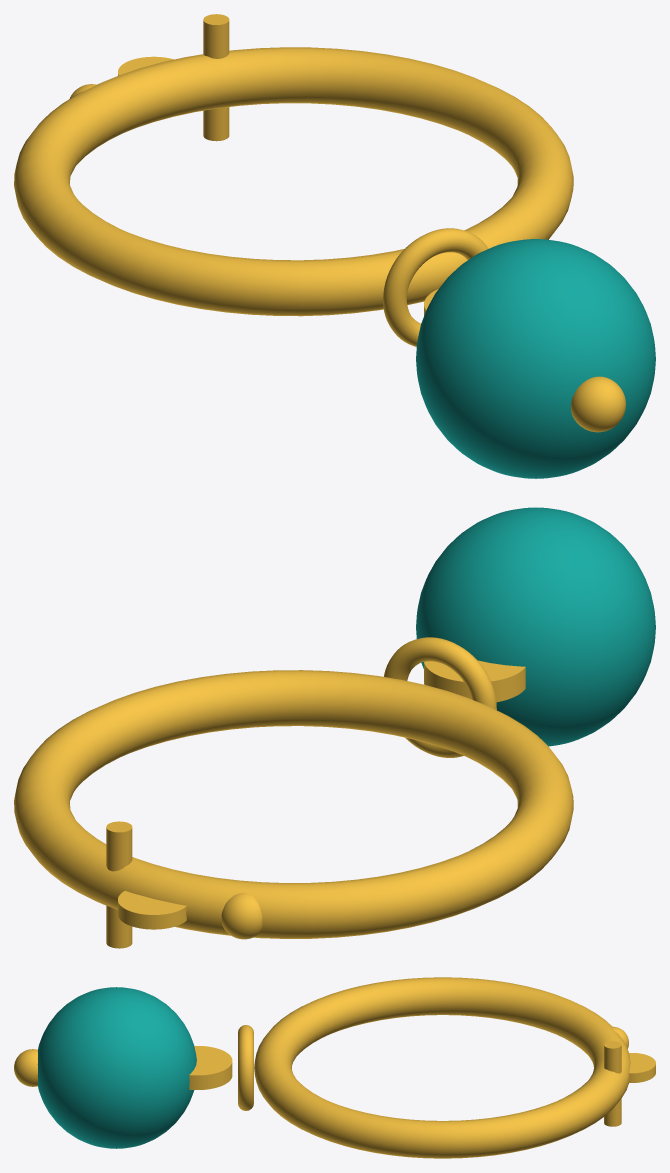
3 views of the same model, one above another, from view 1: azimuth 30°, elevation 25°; view 2: azimuth 150°, elevation 25°; view 3: azimuth 270°, elevation 25° (orthographic). The views are drawn at different scales.
Visible parts, largest first — view 1: hoop_main_body, turquoise_bead, bail_ring, pendant_pin_end, earring_post_wire; view 2: hoop_main_body, turquoise_bead, bail_ring, pendant_cap_top, earring_post_wire, opening_gap_cutout_visualizer, post_closure_notch; view 3: hoop_main_body, turquoise_bead, pendant_cap_top, bail_ring, earring_post_wire, pendant_pin_end, opening_gap_cutout_visualizer.
Boxes of the visible parts, bbox=[...] form: hoop_main_body: bbox=[14, 47, 573, 316]; turquoise_bead: bbox=[416, 239, 655, 478]; bail_ring: bbox=[383, 228, 488, 346]; pendant_pin_end: bbox=[571, 376, 625, 432]; earring_post_wire: bbox=[203, 14, 229, 141]; hoop_main_body: bbox=[14, 670, 573, 938]; turquoise_bead: bbox=[416, 507, 655, 746]; bail_ring: bbox=[384, 637, 496, 757]; pendant_cap_top: bbox=[424, 660, 525, 702]; earring_post_wire: bbox=[106, 821, 132, 948]; opening_gap_cutout_visualizer: bbox=[118, 891, 186, 929]; post_closure_notch: bbox=[221, 893, 262, 939]; hoop_main_body: bbox=[254, 977, 630, 1158]; turquoise_bead: bbox=[37, 987, 196, 1148]; pendant_cap_top: bbox=[189, 1046, 232, 1089]; bail_ring: bbox=[238, 1025, 253, 1110]; earring_post_wire: bbox=[604, 1041, 621, 1126]; pendant_pin_end: bbox=[14, 1049, 37, 1086]; opening_gap_cutout_visualizer: bbox=[629, 1053, 655, 1082].
Bounding box in the file's own units: 0.014 × 0.006 × 0.0238.
